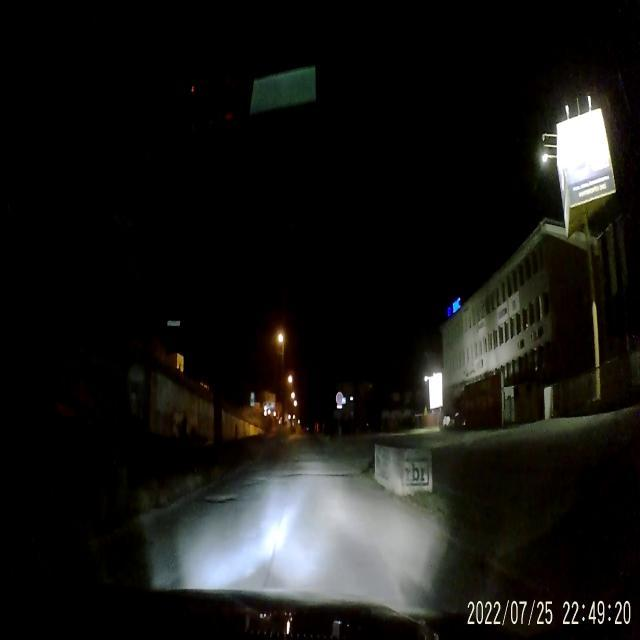Pothole: (206, 494, 232, 506)
